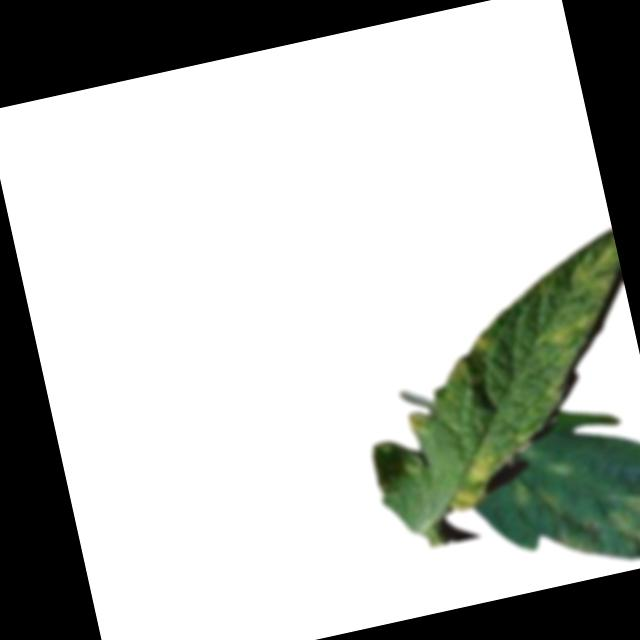Leaf_Mold: (438, 450, 504, 516), (600, 485, 640, 571), (537, 308, 606, 351), (403, 408, 429, 437), (471, 330, 496, 353)
